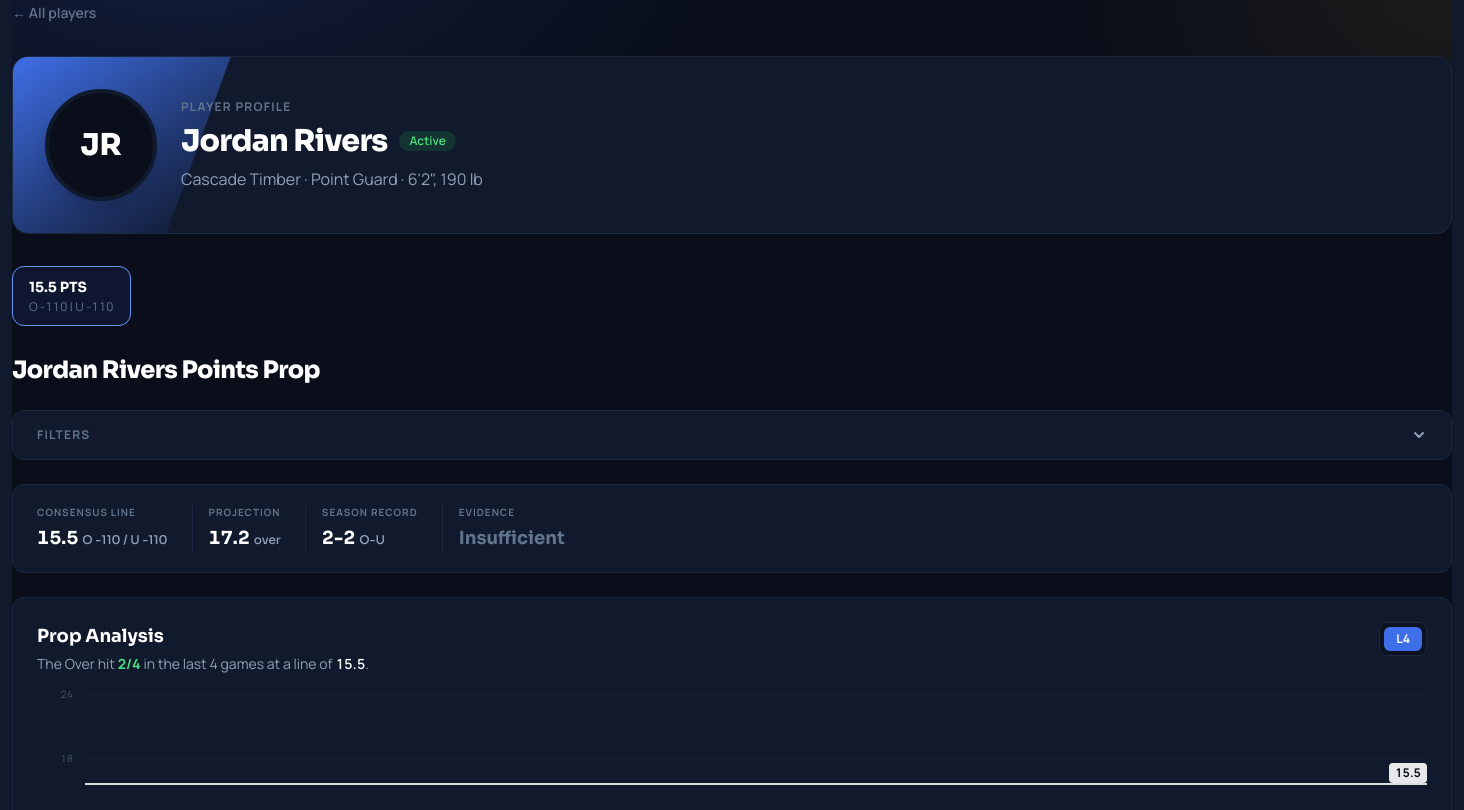
Scenario: PlayerDetailPage › excludes blowout games from the prop analysis
Expected: the text "The Over hit 2/4 in the last 4 games at a line of 15.5." is shown, [37,654,369,674]
Filters start collapsed — open the panel before using its controls.
Click the button "Filters" at coordinates (64, 434), box [13,411,1451,459]
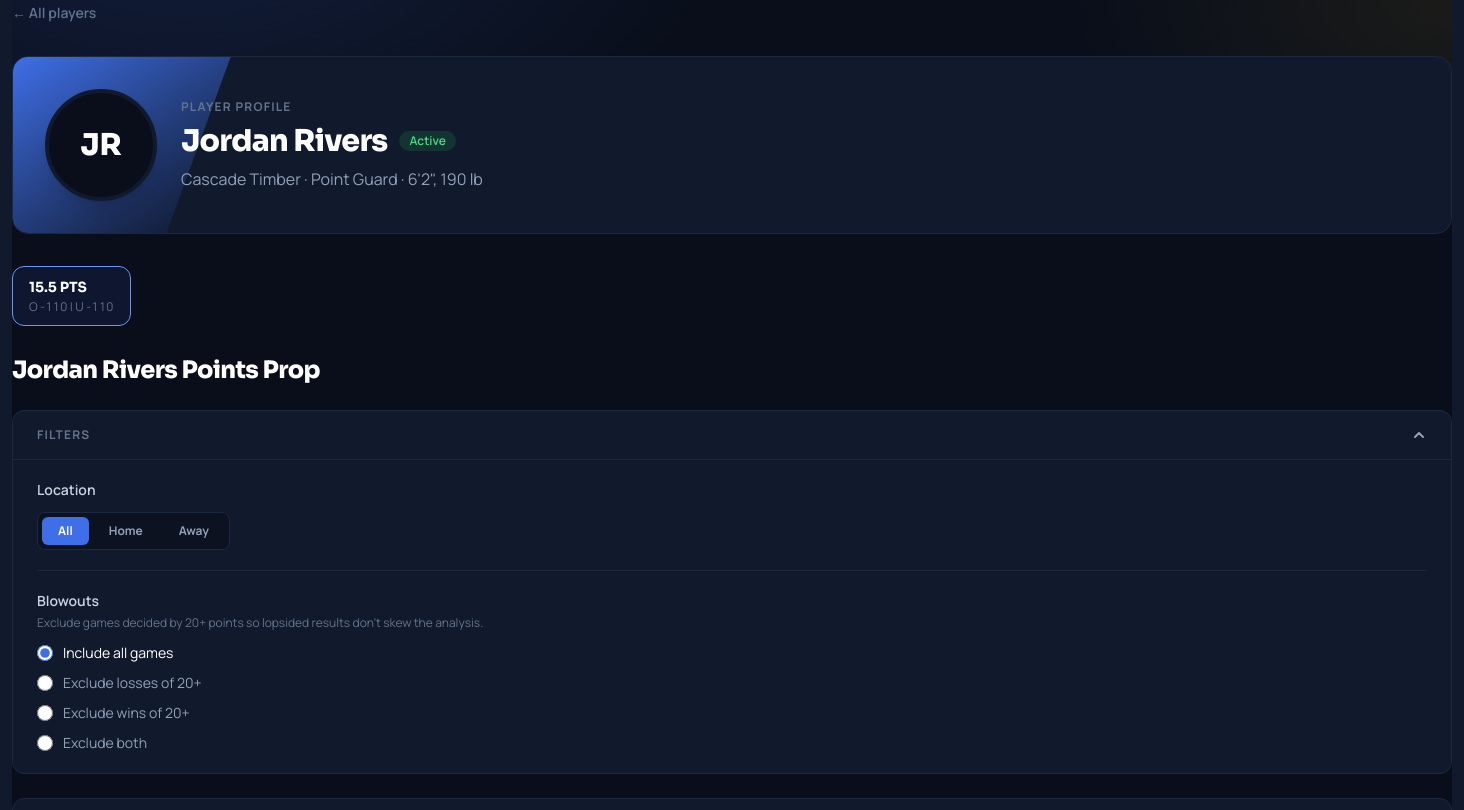
Exclude wins of 20+ → the +25 blowout win drops, leaving 3 games.
Click the radio button labelled "Exclude wins of 20+" at coordinates (45, 713), box [37,705,53,721]
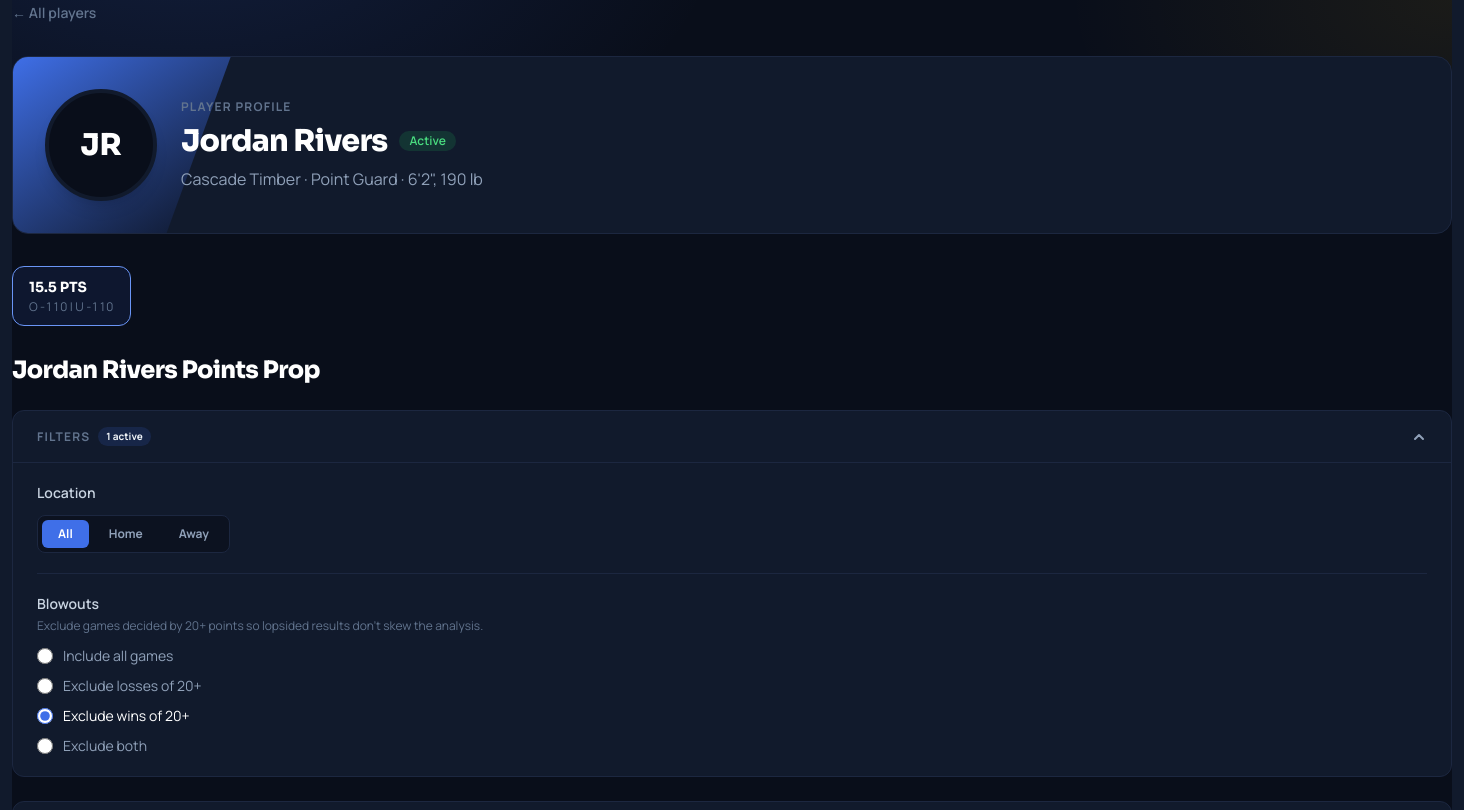
Exclude both → the +25 win and −25 loss drop, leaving 2 games.
Click the radio button labelled "Exclude both" at coordinates (45, 746), box [37,738,53,754]
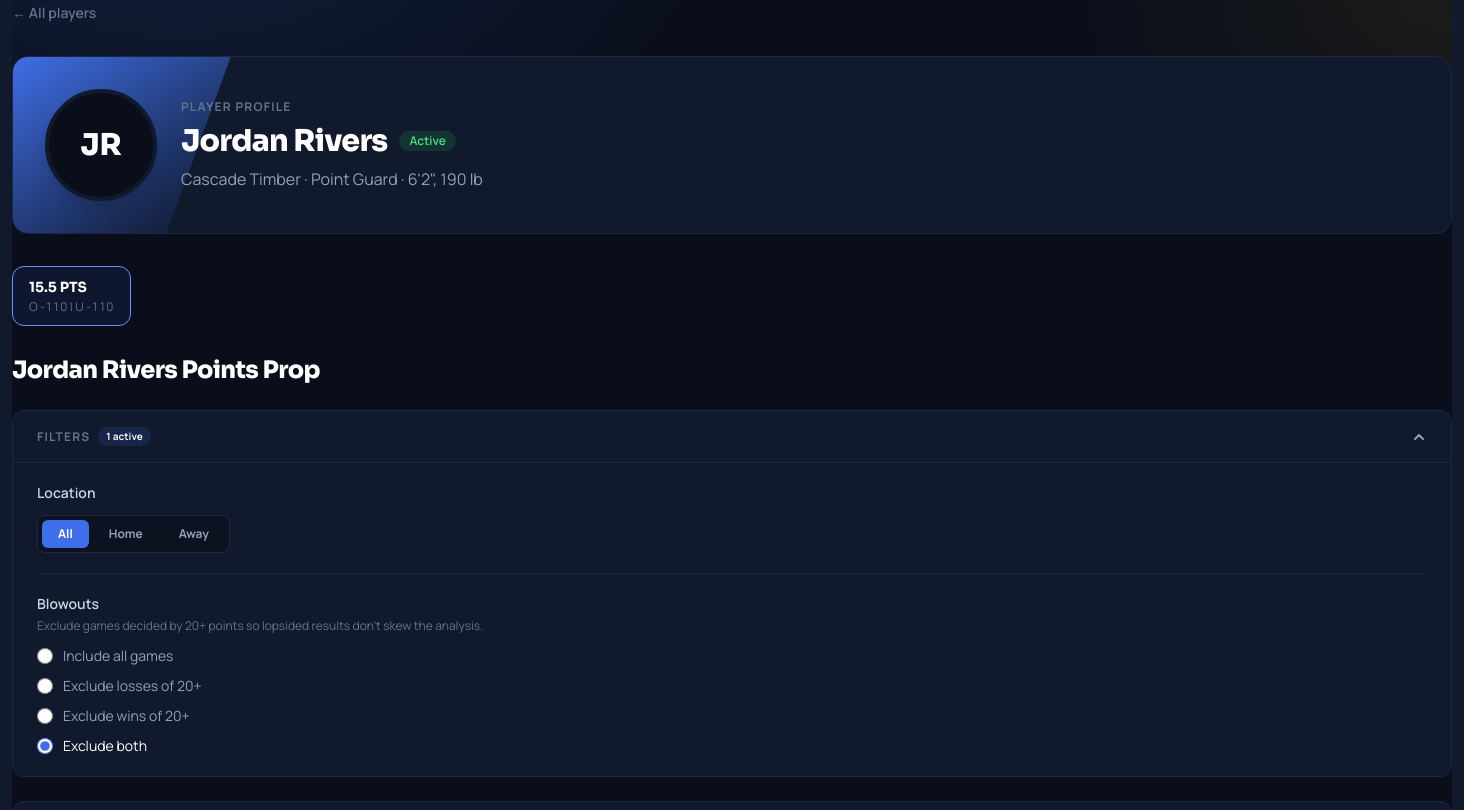
Back to include-all → all 4 games return.
Click the radio button labelled "Include all games" at coordinates (45, 656), box [37,648,53,664]
(page scrolled)
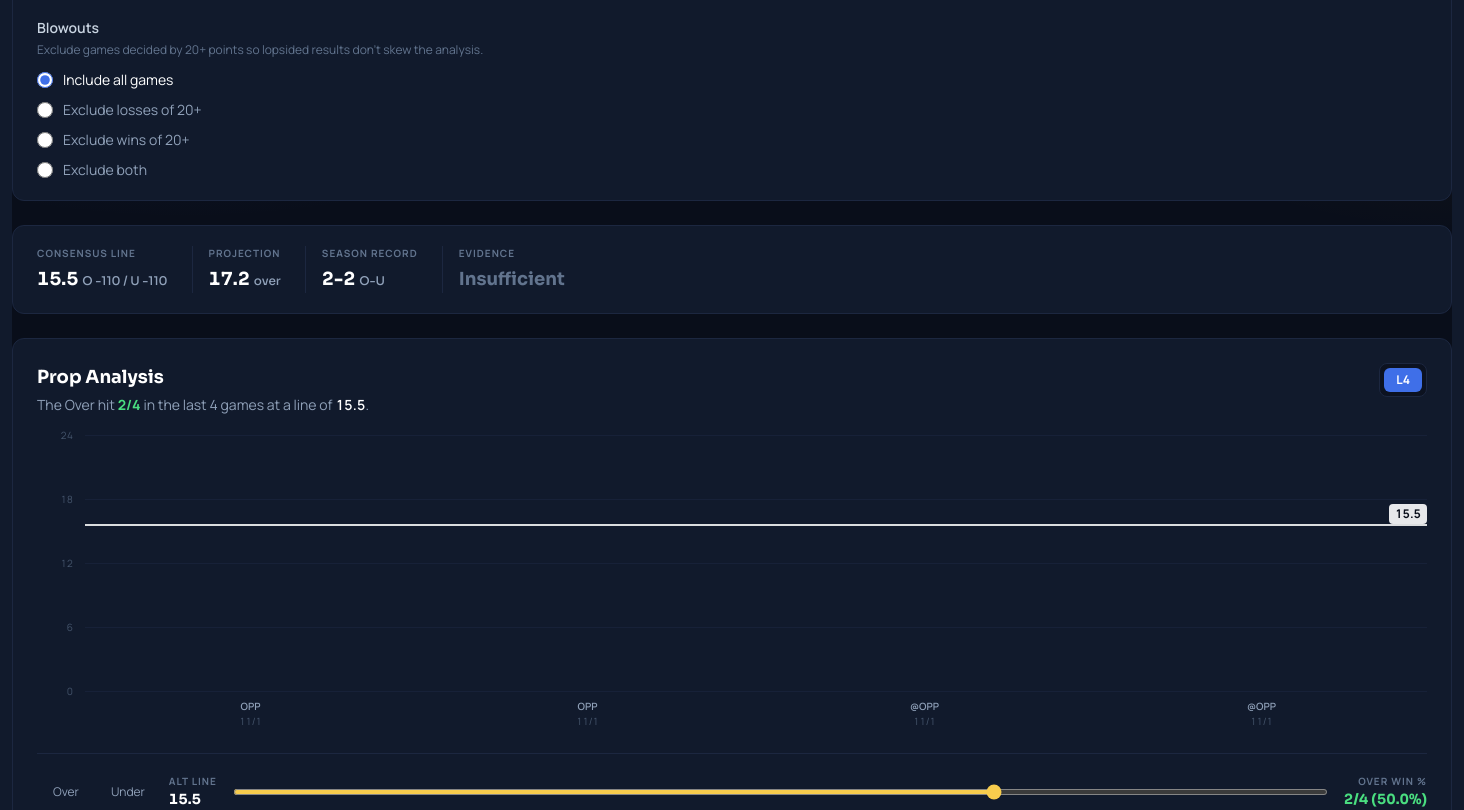
Expected: the text "The Over hit 2/4 in the last 4 games at a line of 15.5." is shown, [37,395,369,415]
